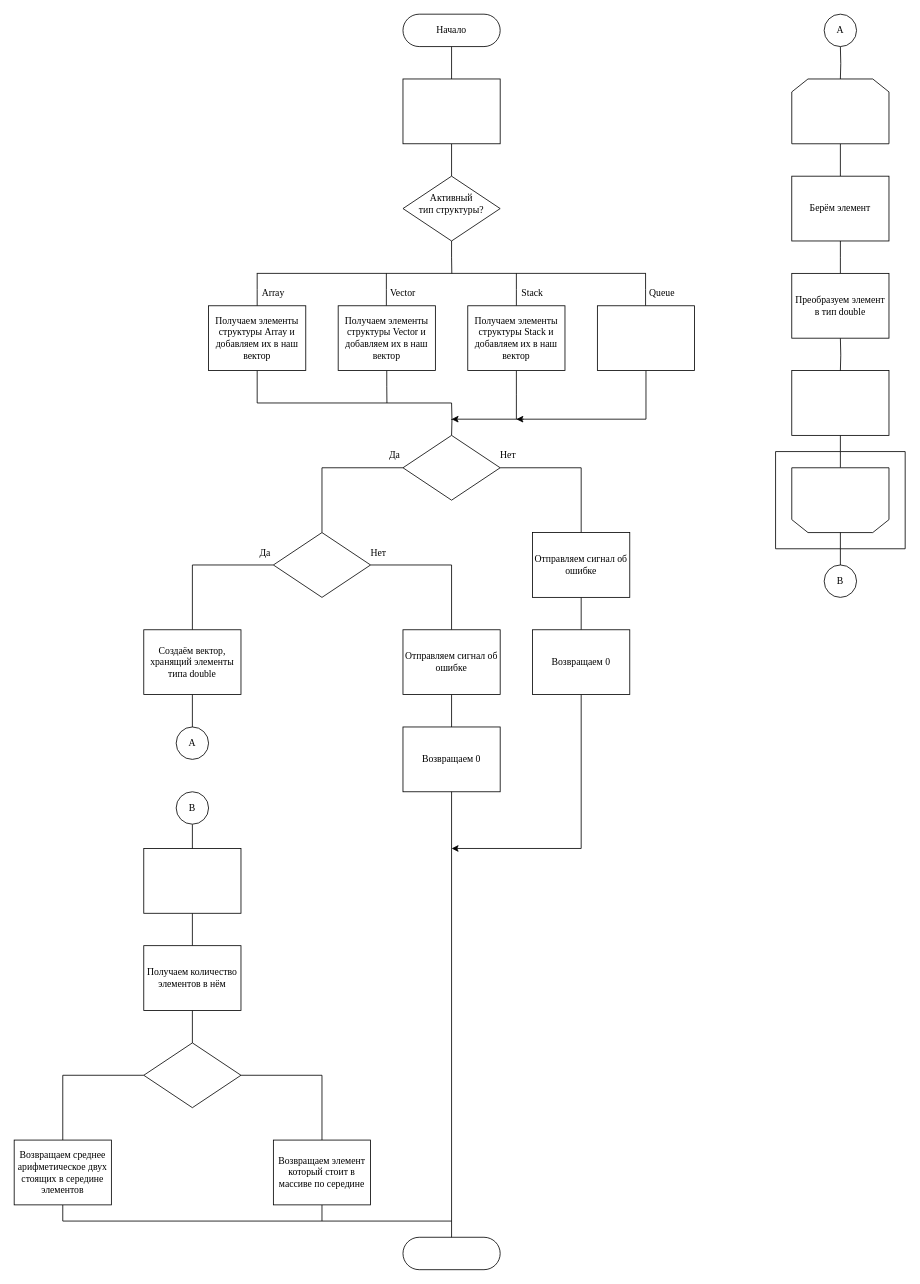
Some shapes in this 920 by 1284 pixel diagram are drawn without their labels. Here are the shapes that lost their labels. From the top down, the centre of each, then its label:
the point at 451,111: Создаём вектор, хранящий элементы типа Element
the point at 840,111: Обход всех элементов вектора пока не обошли все элементы
the point at 646,338: Получаем элементы структуры Queue и добавляем их в наш вектор
the point at 840,402: Добавляем преобразованный элемент в вектор типа double
the point at 451,467: Вектор не пуст?
the point at 840,500: Обход всех элементов вектора
the point at 322,564: Вектор хранит числовые значения?
the point at 192,880: Сортируем массив типа double
the point at 192,1075: Количество элементов чётное?
the point at 451,1253: Конец
